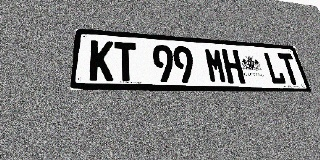9: (152, 44, 176, 82), (172, 45, 196, 83)
H: (221, 49, 245, 84)
K: (89, 40, 113, 81)
L: (262, 52, 287, 84)
M: (204, 48, 228, 83)
T: (114, 42, 137, 82), (277, 53, 302, 85)
